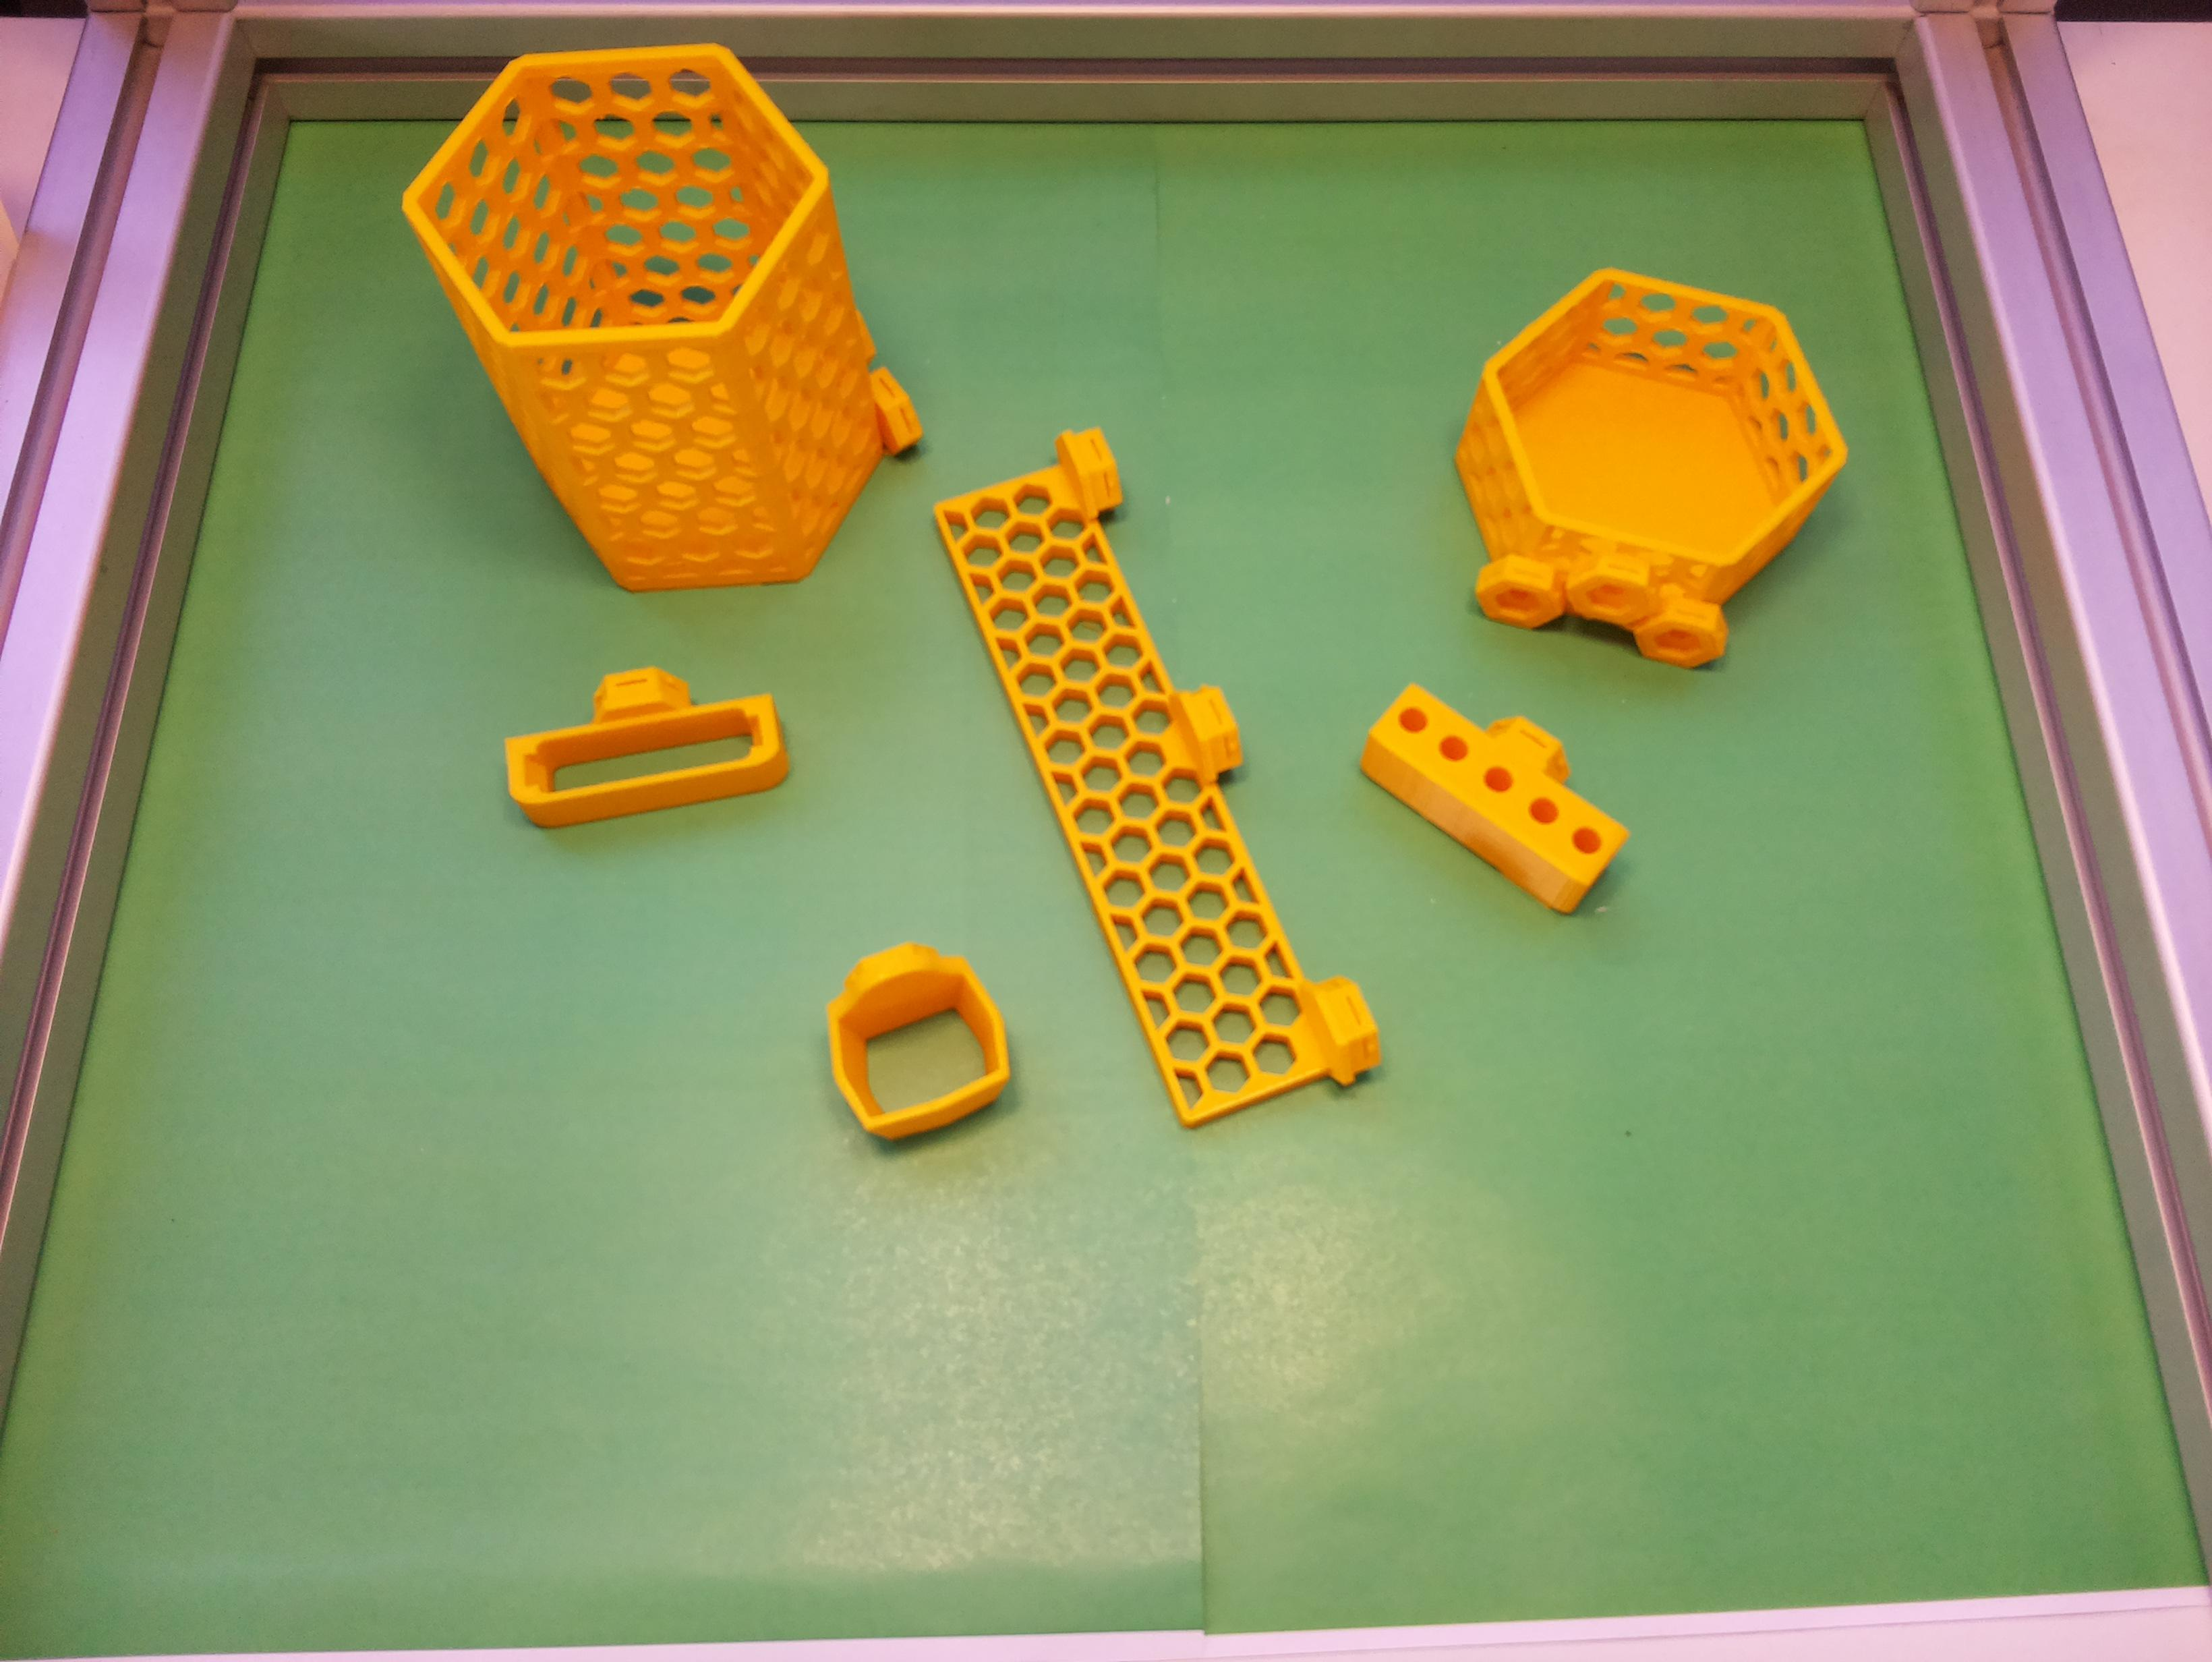bit_holder: (1346, 648, 1652, 922)
bottle_holder: (1421, 244, 1875, 691)
cutter_holder: (492, 646, 794, 834)
scissor_holder: (793, 917, 1034, 1161)
tool_holder: (899, 419, 1393, 1156)
